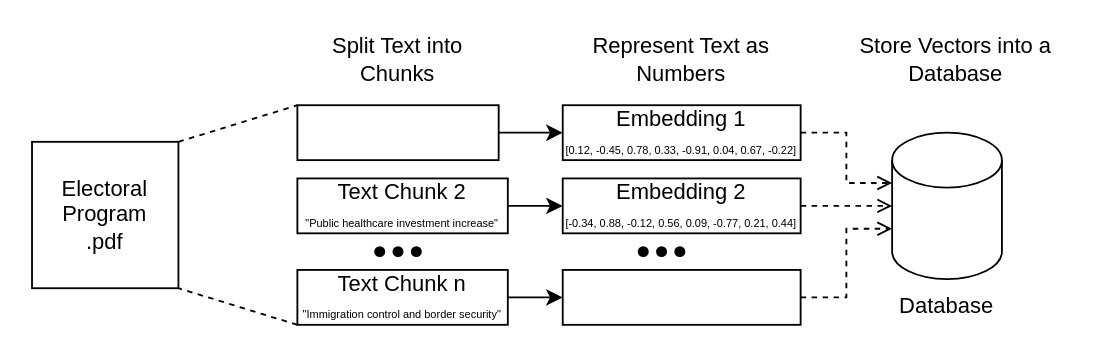
The diagram is 1107 pixels wide and 364 high, and some of its shapes have lost their labels. Here are the shapes that lost their labels. From the top down, the centre of each, then its label:
[397,131]: Text Chunk 1 "Tax reduction policies for middle class"
[681,296]: Embedding n [0.91, -0.11, 0.25, -0.63, 0.72, 0.18, -0.39, 0.05]
